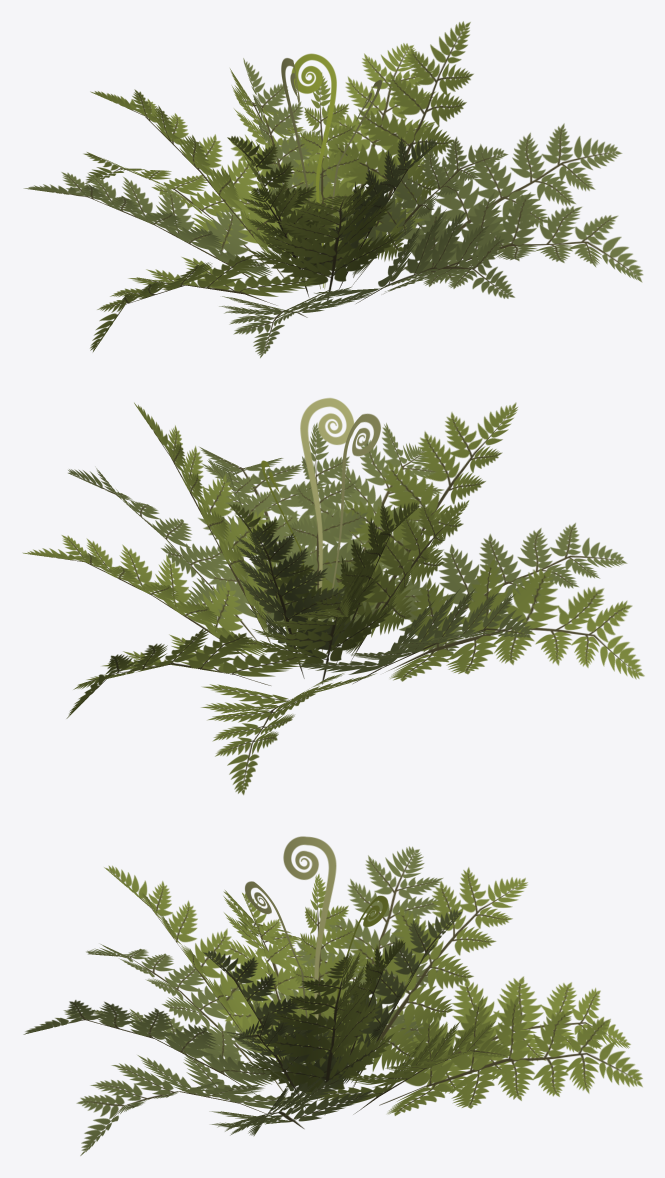
The model's file is Fern_1a.glb.
The picture shows the model from 3 angles, top to bottom: view 1: azimuth 30°, elevation 25°; view 2: azimuth 150°, elevation 25°; view 3: azimuth 270°, elevation 25°; orthographic projection. The views are drawn at different scales.
Visible parts, largest first — view 1: Fern_1a; view 2: Fern_1a; view 3: Fern_1a.
Boxes of the visible parts, <box> form: Fern_1a: <box>24,21,643,357</box>; Fern_1a: <box>22,398,644,795</box>; Fern_1a: <box>23,836,642,1155</box>.
Bounding box in the file's own units: 2.58 × 1.11 × 2.56.
Materials: 1 (1 with a texture image).
